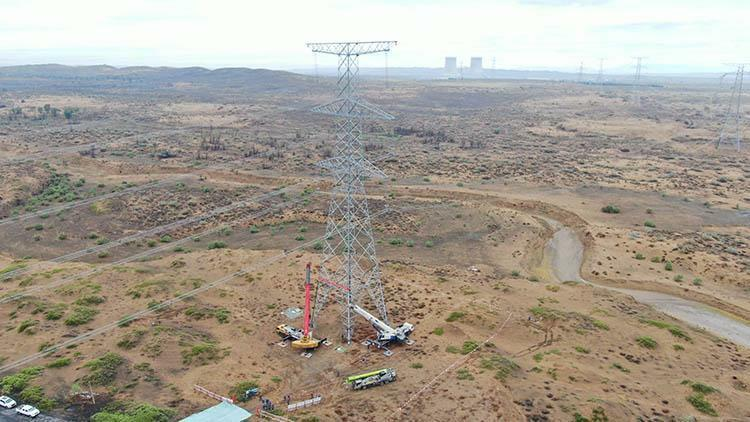power_tower: (306, 39, 416, 349)
